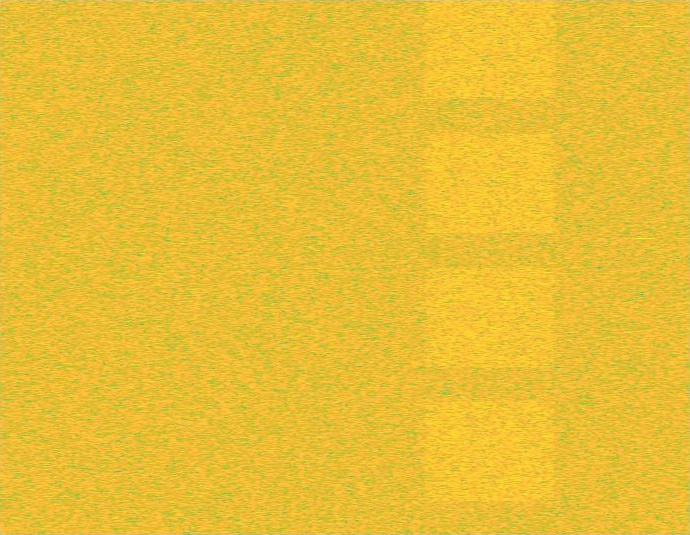5G: (421, 0, 559, 534)
Radar: (638, 0, 652, 534)
